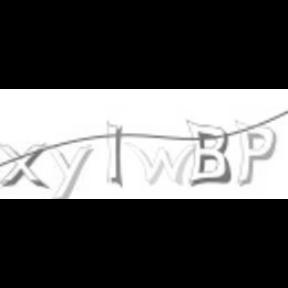B: (184, 118, 230, 188)
I: (103, 114, 127, 192)
P: (234, 117, 278, 187)
w: (128, 142, 196, 186)
x: (0, 143, 48, 189)
y: (48, 144, 94, 199)
